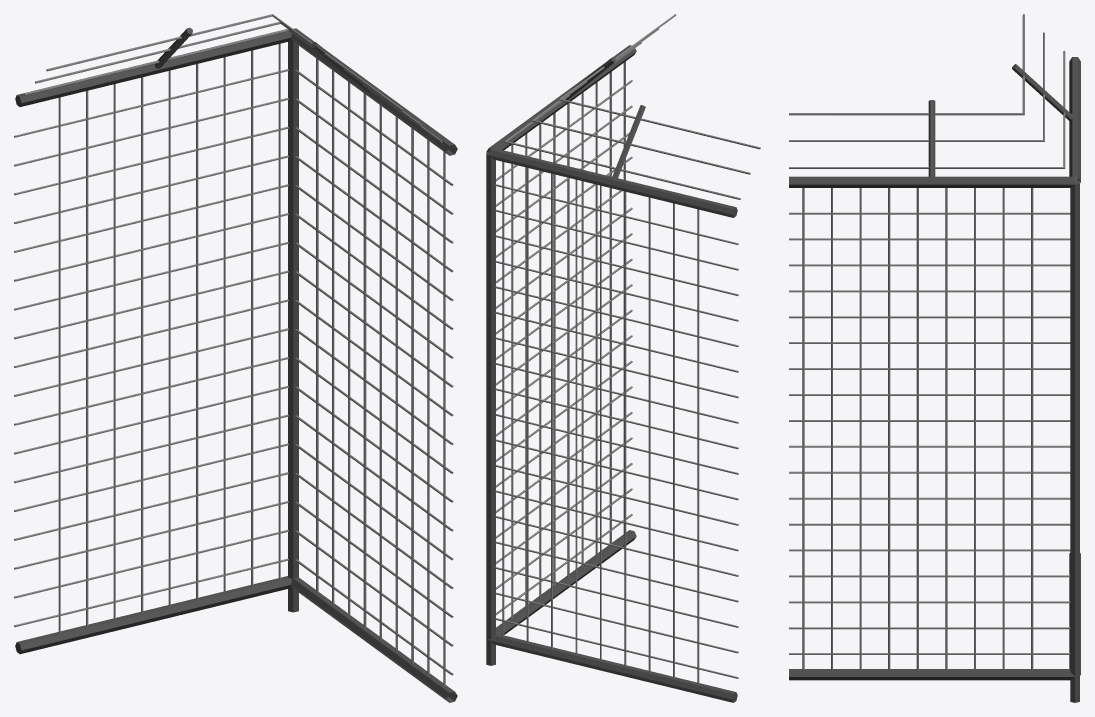
The model's file is Fences_04.fbx.
The picture shows the model from 3 angles, left to right: view 1: azimuth 30°, elevation 25°; view 2: azimuth 150°, elevation 25°; view 3: azimuth 270°, elevation 25°; orthographic projection. The views are drawn at different scales.
Visible parts, largest first — view 1: Fence_02; view 2: Fence_02; view 3: Fence_02.
Boxes of the visible parts, left/top/right/bottom form: Fence_02: left=14, top=14, right=457, bottom=702; Fence_02: left=486, top=14, right=760, bottom=702; Fence_02: left=789, top=14, right=1080, bottom=702.
Size of the model in its own units: 103 by 222 by 102.
1 material, 1 textured.
